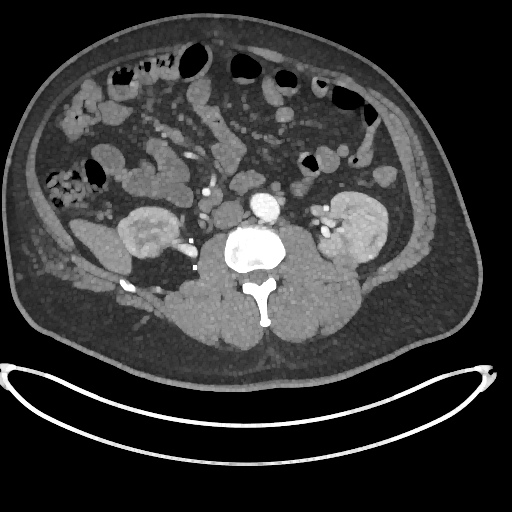Lesion: (332, 246, 357, 273)
